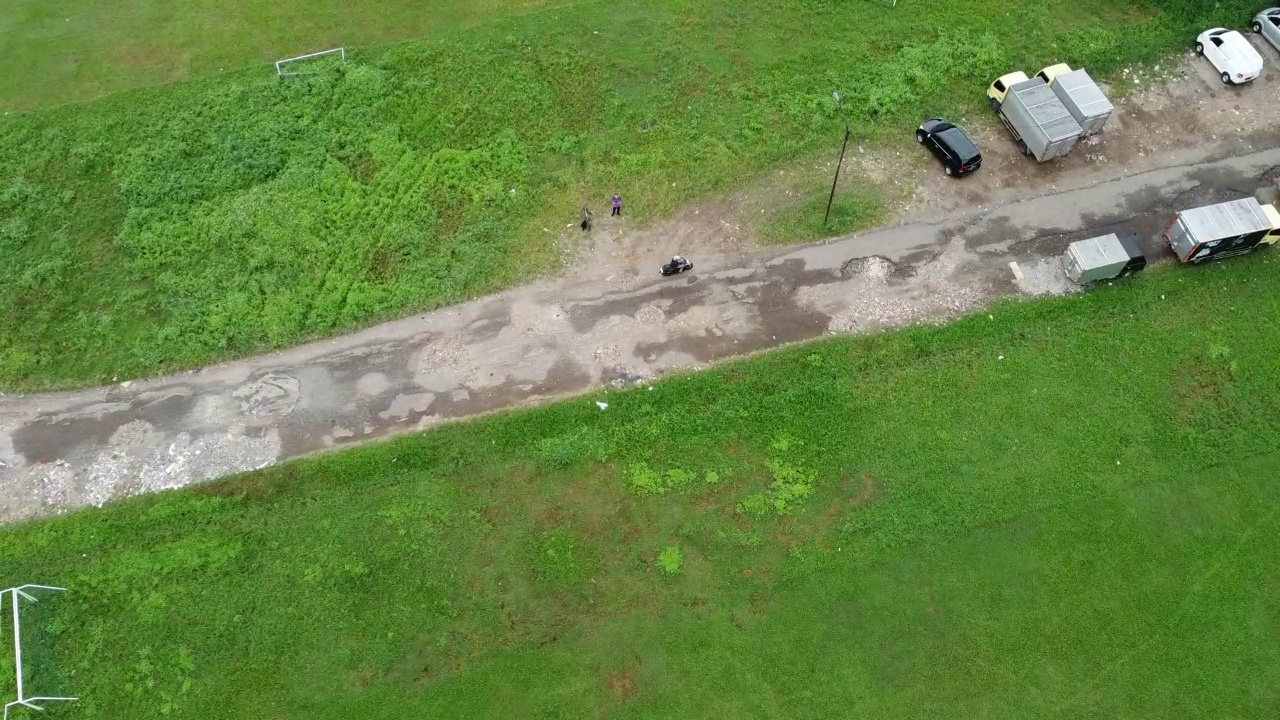mobil: (1188, 22, 1269, 100), (911, 107, 986, 185)
